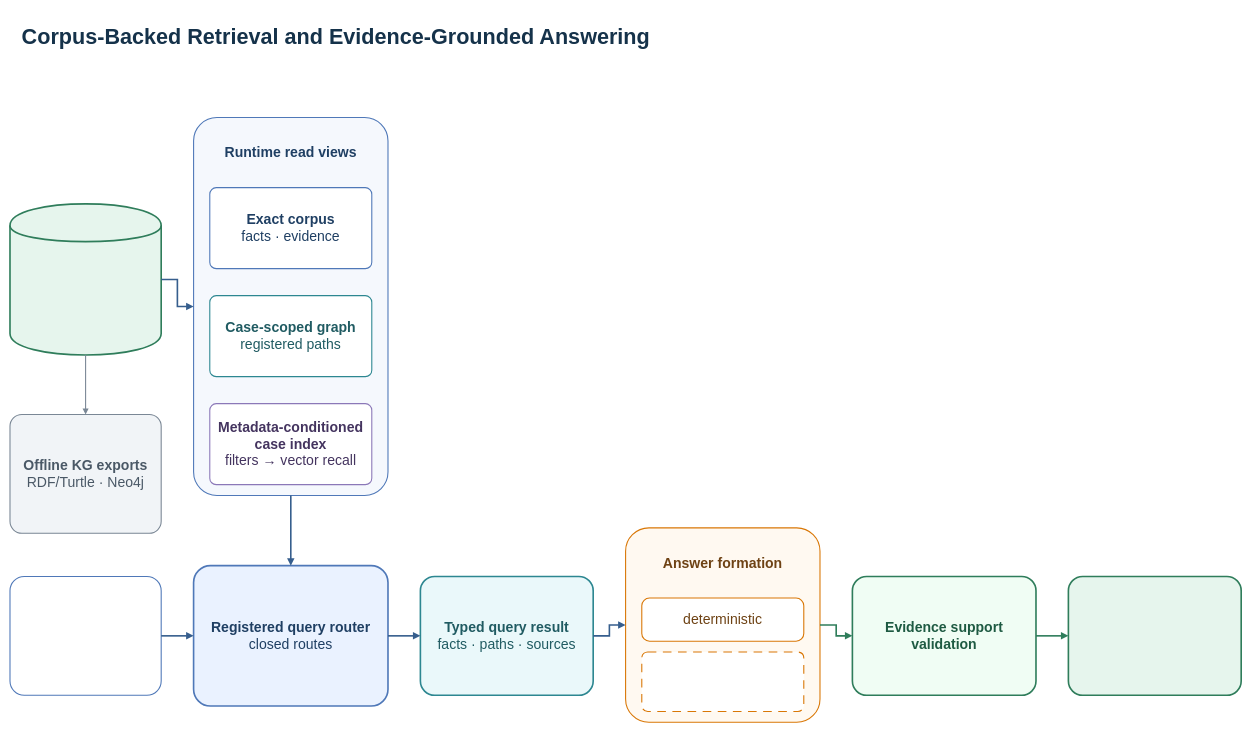
This 1251x732 diagram has some shape labels left out. The shapes that lost their labels are listed below. From the top down, each one's box as (x1, y1, x2, y2) in pixels, then its label:
(9, 203, 162, 356): Canonical corpus v2 authoritative records
(9, 576, 161, 696): User question
(1067, 575, 1242, 696): Answer citations · limitations status
(641, 651, 804, 712): Analysis Agent QueryEvidenceBundle
